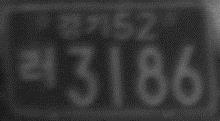1: (102, 43, 130, 110)
3: (64, 45, 99, 106), (136, 9, 160, 45)
5: (110, 10, 133, 41)
6: (169, 43, 209, 110)
8: (133, 44, 170, 107)
경기_O: (54, 9, 110, 43)
러: (18, 46, 58, 90)
